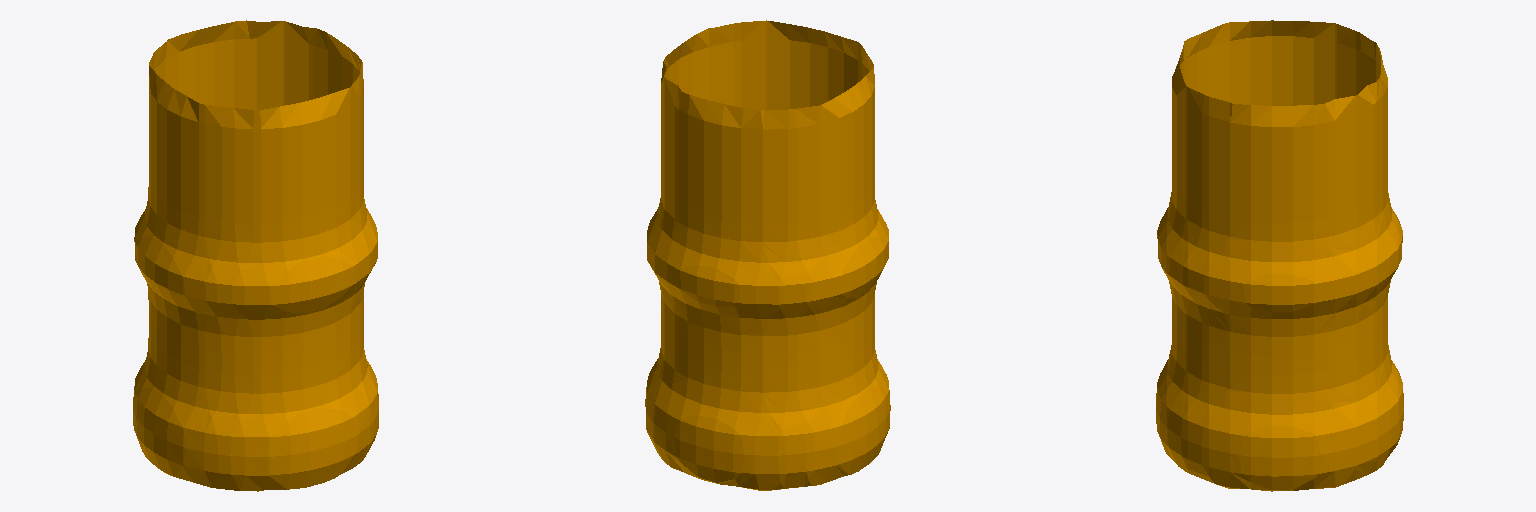
robot.urdf — cylinder_../../meshes/cylinders/cylinder_159.stl:
<?xml version="1.0" encoding="utf-8"?>  <robot name="cylinder_../../meshes/cylinders/cylinder_159.stl">   <link name="cylinder_../../meshes/cylinders/cylinder_159.stl">     <visual>       <geometry>         <mesh filename="../meshes/cylinders/cylinder_159.stl" scale="1 1 1"/>       </geometry>     </visual>     <collision>       <geometry>         <mesh filename="../meshes/cylinders/cylinder_159.stl" scale="1 1 1"/>       </geometry>     </collision>     <inertial>        <origin         xyz="0 0 0"         rpy="0 0 0" />       <mass value="0.2273397481776335"/>       <origin rpy="0 0 0" xyz="0 0 0"/>       <inertia ixx="0.00011765767470405965" ixy="2.165687752438467e-09" ixz="1.623009416647887e-07" iyy="0.0001176574065960826" iyz="-3.9232676719582375e-08" izz="8.313072260119253e-05"/>     </inertial>   </link>  </robot>

--- Facts derived from the render (not from the file) ---
3 views of the same robot in one strip: view 1: azimuth 30°, elevation 25°; view 2: azimuth 150°, elevation 25°; view 3: azimuth 270°, elevation 25° (orthographic).
Model cylinder_../../meshes/cylinders/cylinder_159.stl with 1 links and 0 joints (none), rooted at cylinder_../../meshes/cylinders/cylinder_159.stl, posed all joints at 0.
Links seen in each view (by area): view 1: cylinder_../../meshes/cylinders/cylinder_159.stl; view 2: cylinder_../../meshes/cylinders/cylinder_159.stl; view 3: cylinder_../../meshes/cylinders/cylinder_159.stl.
Link boxes in pixels (x1,y1,x2,y2): cylinder_../../meshes/cylinders/cylinder_159.stl: (133, 20, 378, 491); cylinder_../../meshes/cylinders/cylinder_159.stl: (645, 20, 890, 490); cylinder_../../meshes/cylinders/cylinder_159.stl: (1156, 20, 1403, 491).
Bounding box of the posed robot: 0.0591 × 0.0591 × 0.1013 m (x, y, z).
Meshes: 1 distinct files referenced, 1 mesh visuals loaded (1 binary STL).